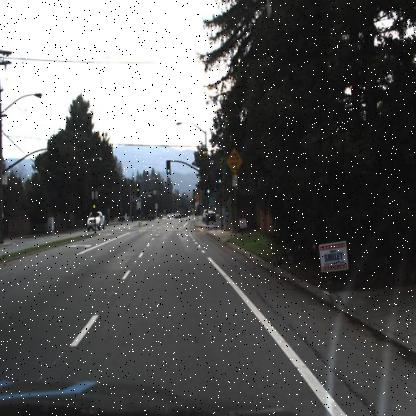car: (85, 211, 104, 230)
trafficLight-Green: (217, 170, 223, 185), (166, 162, 170, 174), (206, 181, 210, 193)
trafficLight-Yellow: (92, 197, 96, 213)
trafficLight-YellowLeft: (136, 183, 140, 197)
